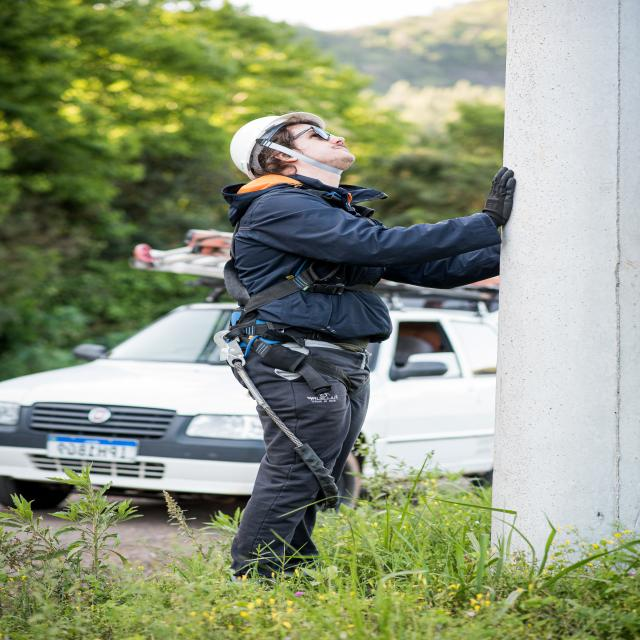capacete: (226, 109, 331, 180)
luva: (478, 164, 522, 228)
